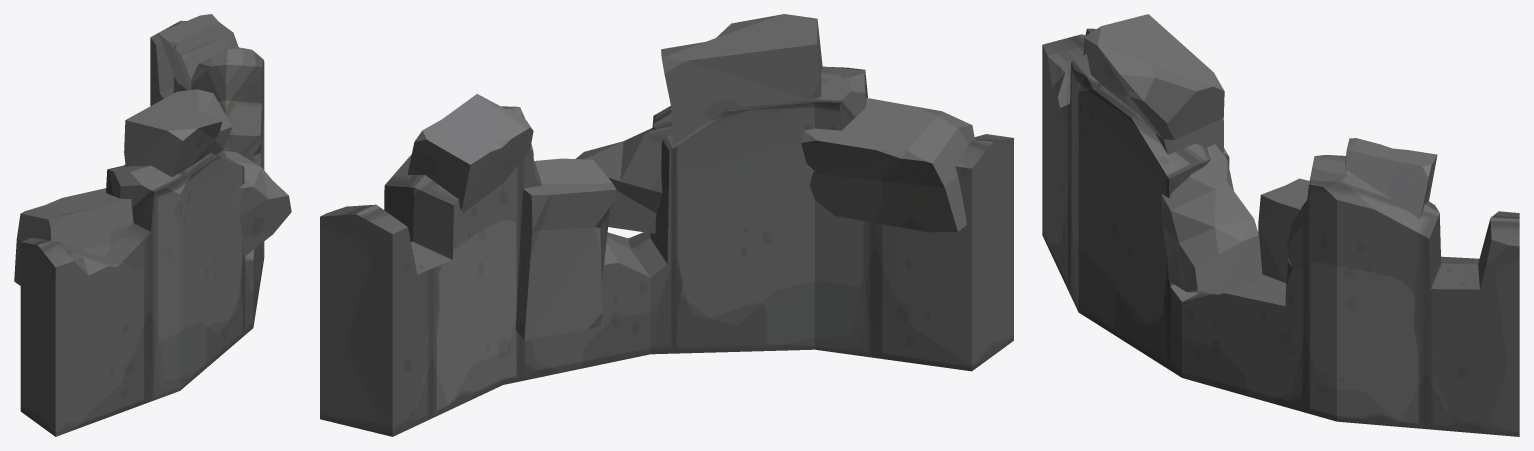
File: SM_Bld_Wall_L_Curve_Half_Damaged_01.fbx
The picture shows the model from 3 angles, left to right: view 1: azimuth 30°, elevation 25°; view 2: azimuth 150°, elevation 25°; view 3: azimuth 270°, elevation 25°; orthographic projection. The views are drawn at different scales.
Parts seen in each view (by area): view 1: SM_Bld_Wall_L_Curve_Half_Damaged_01; view 2: SM_Bld_Wall_L_Curve_Half_Damaged_01; view 3: SM_Bld_Wall_L_Curve_Half_Damaged_01.
Part boxes in pixels (x1=…): SM_Bld_Wall_L_Curve_Half_Damaged_01: x1=14, y1=14, x2=291, y2=436; SM_Bld_Wall_L_Curve_Half_Damaged_01: x1=320, y1=14, x2=1013, y2=436; SM_Bld_Wall_L_Curve_Half_Damaged_01: x1=1042, y1=14, x2=1519, y2=436.
Size of the model in its own units: 272 by 180 by 272.
